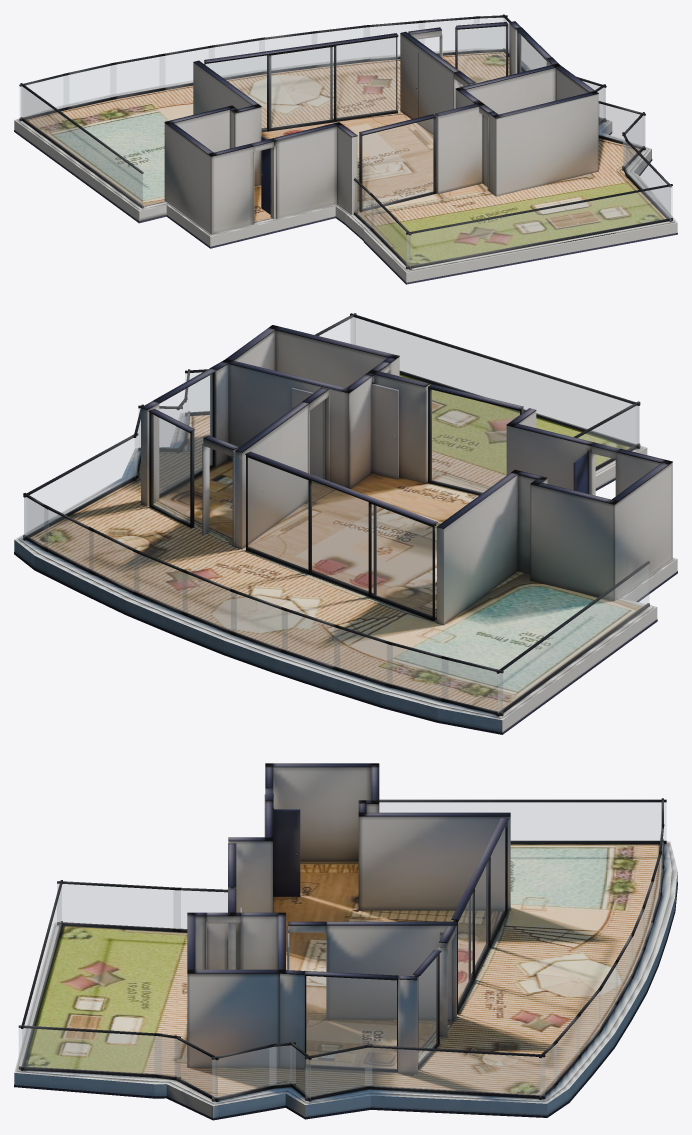
3 renders of one model, top to bottom at view 1: azimuth 30°, elevation 25°; view 2: azimuth 150°, elevation 25°; view 3: azimuth 270°, elevation 25°, orthographic. The views are drawn at different scales.
Visible parts, largest first — view 1: plan, glass0_m, railg17_m, glass2_m, railg0_m, glass1_m, railg3_m, railg2_m, railg1_m, railg19_m, railg16_m, railg4_m (+11 smaller); view 2: plan, glass0_m, railg17_m, glass2_m, railg0_m, railg11_m, glass3_m, glass1_m, railg2_m, railg1_m, railg3_m, railg4_m (+8 smaller); view 3: plan, glass3_m, railg0_m, railg11_m, railg16_m, railg12_m, glass0_m, railg13_m, railg19_m, glass1_m, railg20_m, railg21_m (+9 smaller).
Boxes of the visible parts, x1,y1,x2,y2 form: plan: (14,14,677,284); glass0_m: (205,37,397,129); railg17_m: (406,186,672,266); glass2_m: (362,119,433,208); railg0_m: (21,87,142,205); glass1_m: (458,26,505,86); railg3_m: (110,56,164,96); railg2_m: (64,65,115,107); railg1_m: (20,75,68,118); railg19_m: (599,104,645,147); railg16_m: (626,142,670,218); railg4_m: (159,48,214,87); plan: (14,313,677,734); glass0_m: (248,458,435,617); railg17_m: (351,317,639,445); glass2_m: (431,390,519,492); railg0_m: (498,564,648,713); railg11_m: (24,436,137,536); glass3_m: (159,374,212,493); glass1_m: (152,414,189,523); railg2_m: (387,644,448,699); railg1_m: (442,659,502,712); railg3_m: (334,627,392,684); railg4_m: (282,610,339,668); plan: (14,763,677,1120); glass3_m: (306,976,396,1068); railg0_m: (379,802,666,840); railg11_m: (365,1048,544,1095); railg16_m: (19,1028,160,1074); railg12_m: (57,884,180,928); glass0_m: (458,828,504,1005); railg13_m: (305,1048,371,1097); railg19_m: (212,1047,275,1098); glass1_m: (418,956,437,1062); railg20_m: (175,1039,217,1098); railg21_m: (173,890,227,929).
Bounding box in the file's own units: 13.6 × 2.62 × 14.4.
Materials: 2 (1 with a texture image).
